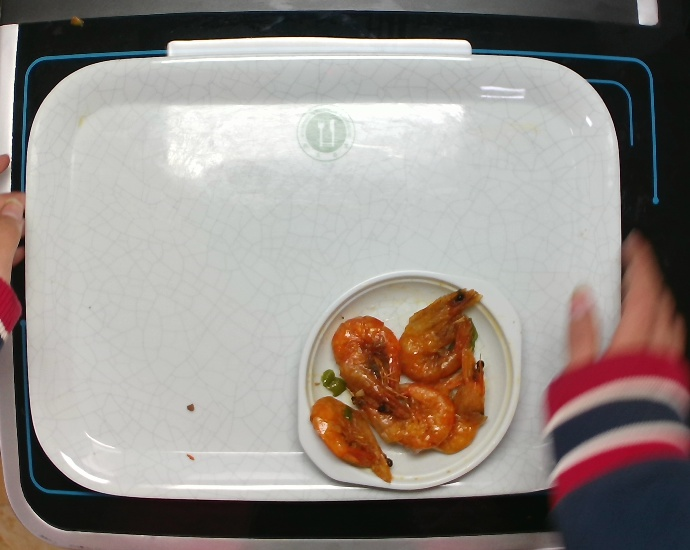JYsf-Shuang_Er_Pan: (285, 256, 523, 498)
